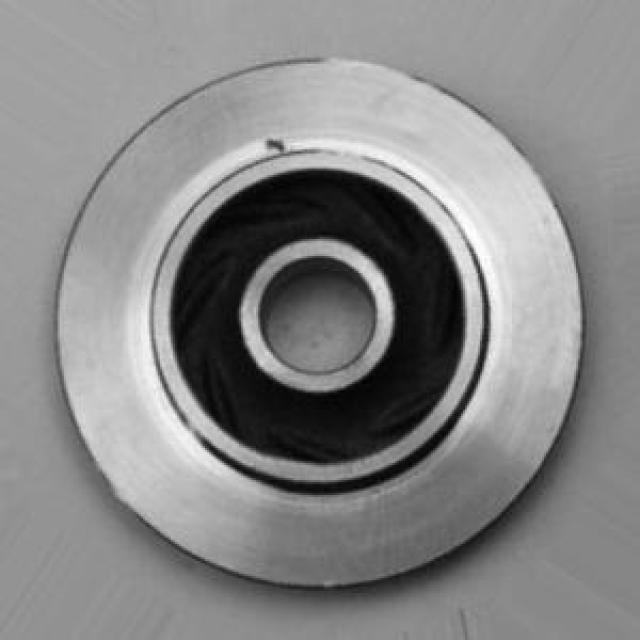Defect: (254, 127, 299, 167)
